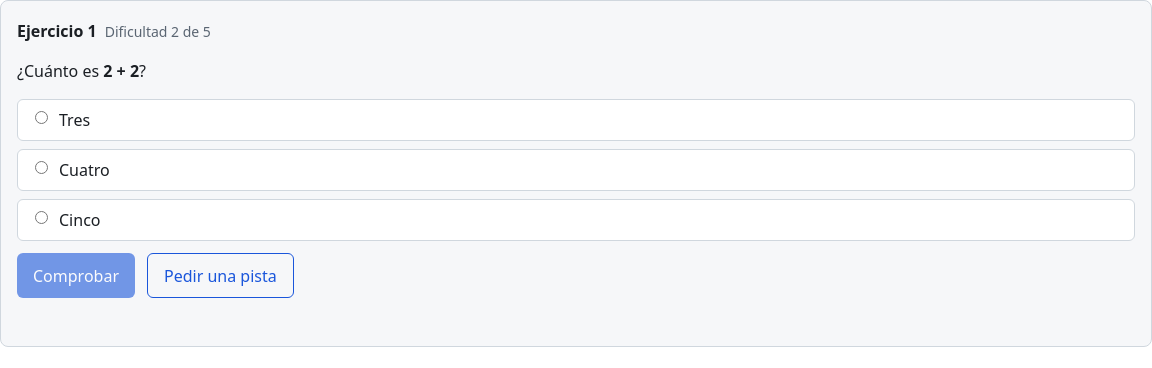
Test case: ExerciseCard › state and errors › shows a translated message when the server rejects the answer
Click the radio button labelled "Tres" at (42, 118), box left=35, top=111, right=48, bottom=124
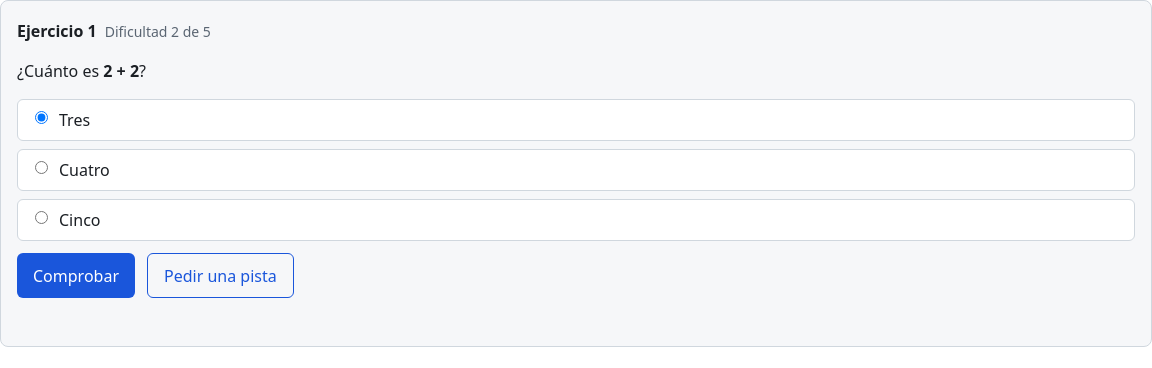
Click the button "Comprobar" at (76, 276), box left=17, top=253, right=135, bottom=298
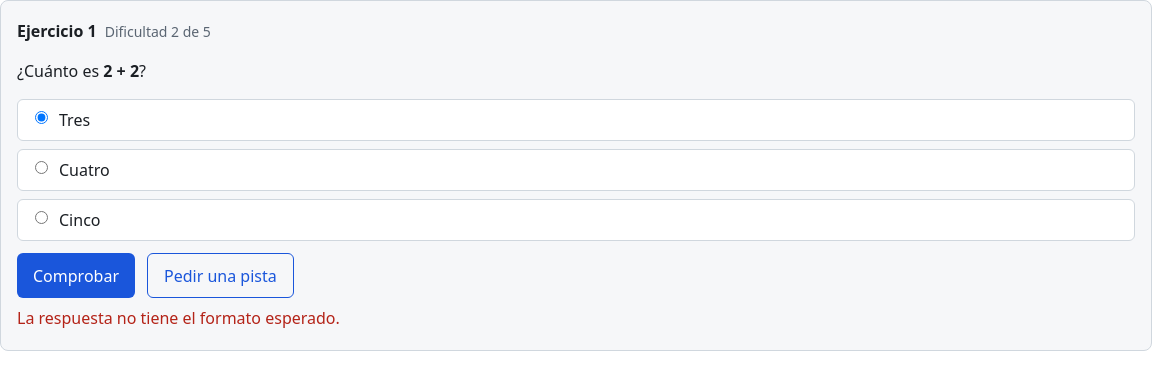
expect the text with class "form-error" reads "La respuesta no tiene el formato esperado.": met, box left=17, top=307, right=340, bottom=329
